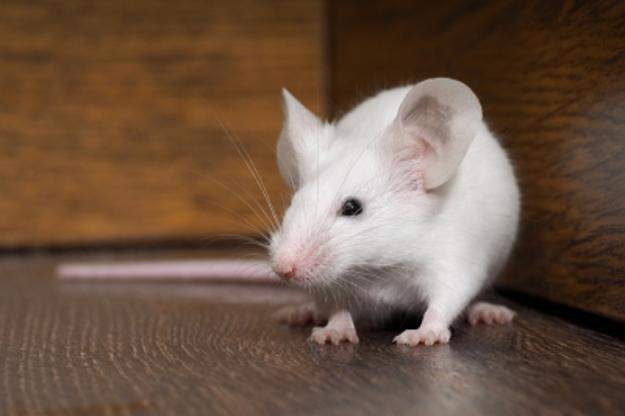rat: (268, 78, 520, 346)
